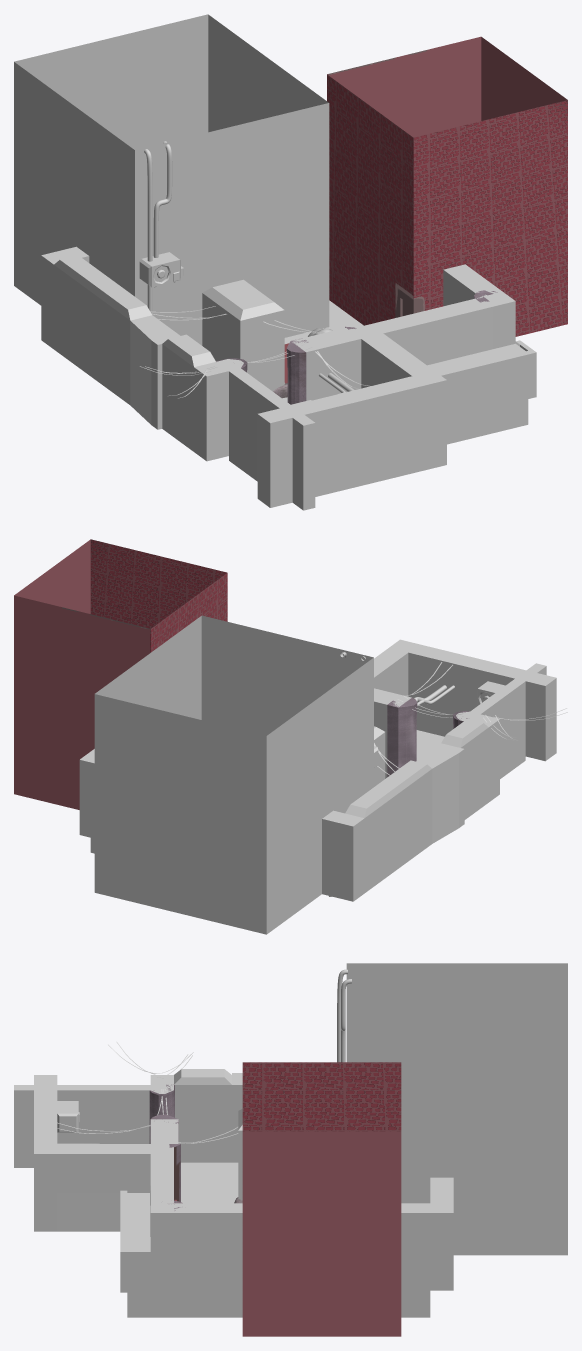
File: blockout 3.fbx
The picture shows the model from 3 angles, top to bottom: view 1: azimuth 30°, elevation 25°; view 2: azimuth 150°, elevation 25°; view 3: azimuth 270°, elevation 25°; orthographic projection. The views are drawn at different scales.
Visible parts, largest first — view 1: side building.001, side building.002, main walls, middle building, backwall, airco.002, pillar 3, long pipe.001, main city, squigled pipe; view 2: side building.001, main walls, side building.002, pillar 3, torso gedeelte, middle building; view 3: side building.001, side building.002, main walls, backwall, main city, airco.001, pillar 4.
Boxes of the visible parts, left/top/right/bottom form: side building.001: left=14, top=14, right=329, bottom=345; side building.002: left=327, top=36, right=567, bottom=336; main walls: left=41, top=246, right=528, bottom=510; middle building: left=202, top=279, right=284, bottom=391; backwall: left=427, top=340, right=536, bottom=418; airco.002: left=139, top=252, right=183, bottom=287; pillar 3: left=286, top=338, right=308, bottom=404; long pipe.001: left=144, top=149, right=152, bottom=314; main city: left=282, top=300, right=363, bottom=401; squigled pipe: left=153, top=141, right=172, bottom=257; side building.001: left=94, top=615, right=373, bottom=934; main walls: left=79, top=639, right=556, bottom=901; side building.002: left=14, top=539, right=227, bottom=809; pillar 3: left=387, top=697, right=417, bottom=776; torso gedeelte: left=416, top=730, right=525, bottom=778; middle building: left=374, top=726, right=385, bottom=786; side building.001: left=346, top=963, right=567, bottom=1255; side building.002: left=242, top=1062, right=401, bottom=1336; main walls: left=14, top=1069, right=453, bottom=1317; backwall: left=120, top=1190, right=150, bottom=1292; main city: left=181, top=1162, right=238, bottom=1203; airco.001: left=57, top=1101, right=79, bottom=1132; pillar 4: left=149, top=1084, right=174, bottom=1143.
Bounding box in the file's own units: 2129 × 1098 × 2376.
